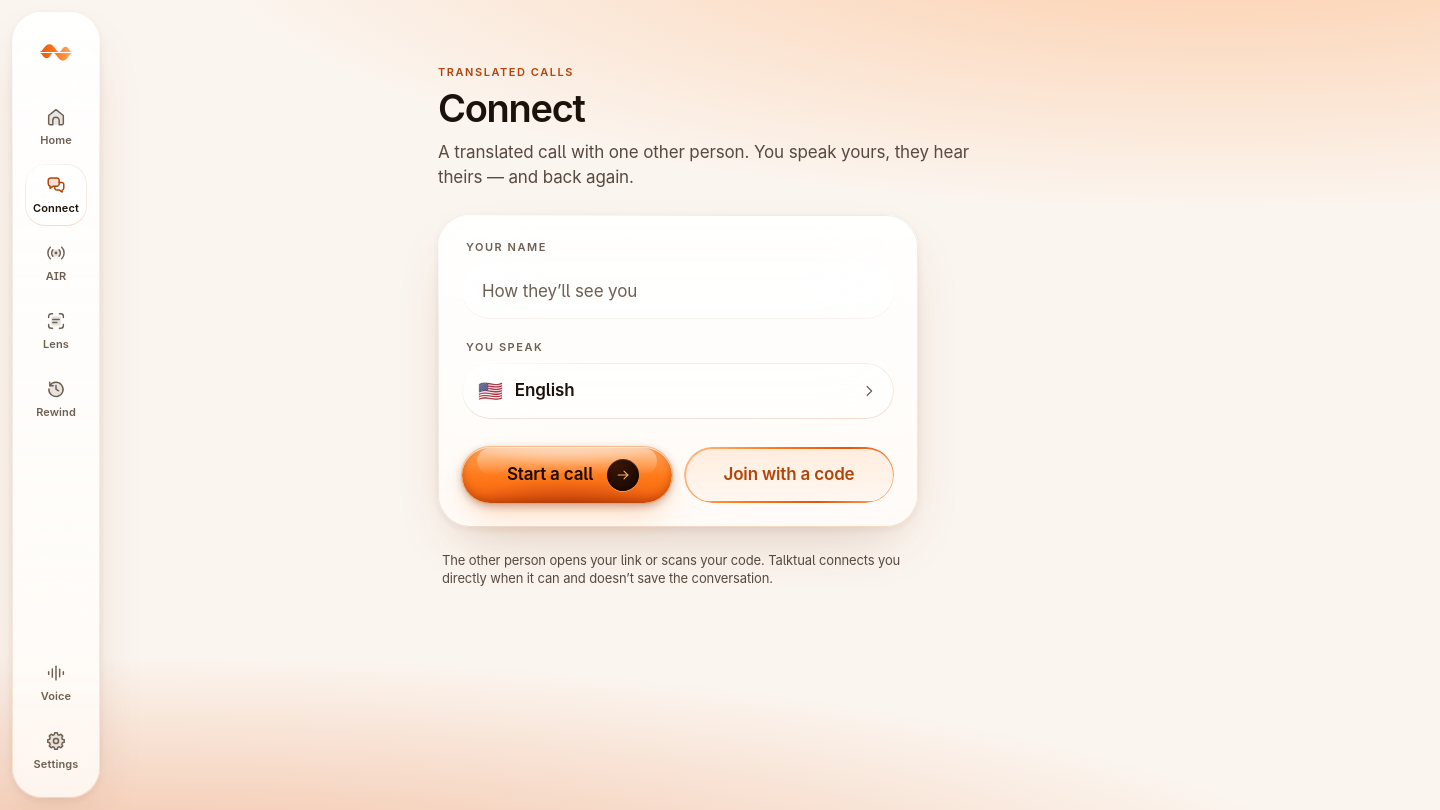
it: App entry flows › Connect: Join with a code goes to code entry; Back returns to Connect
Step 1. Type "Ana" into the field labelled "Your name" → (678, 291), box [462,263,894,319]
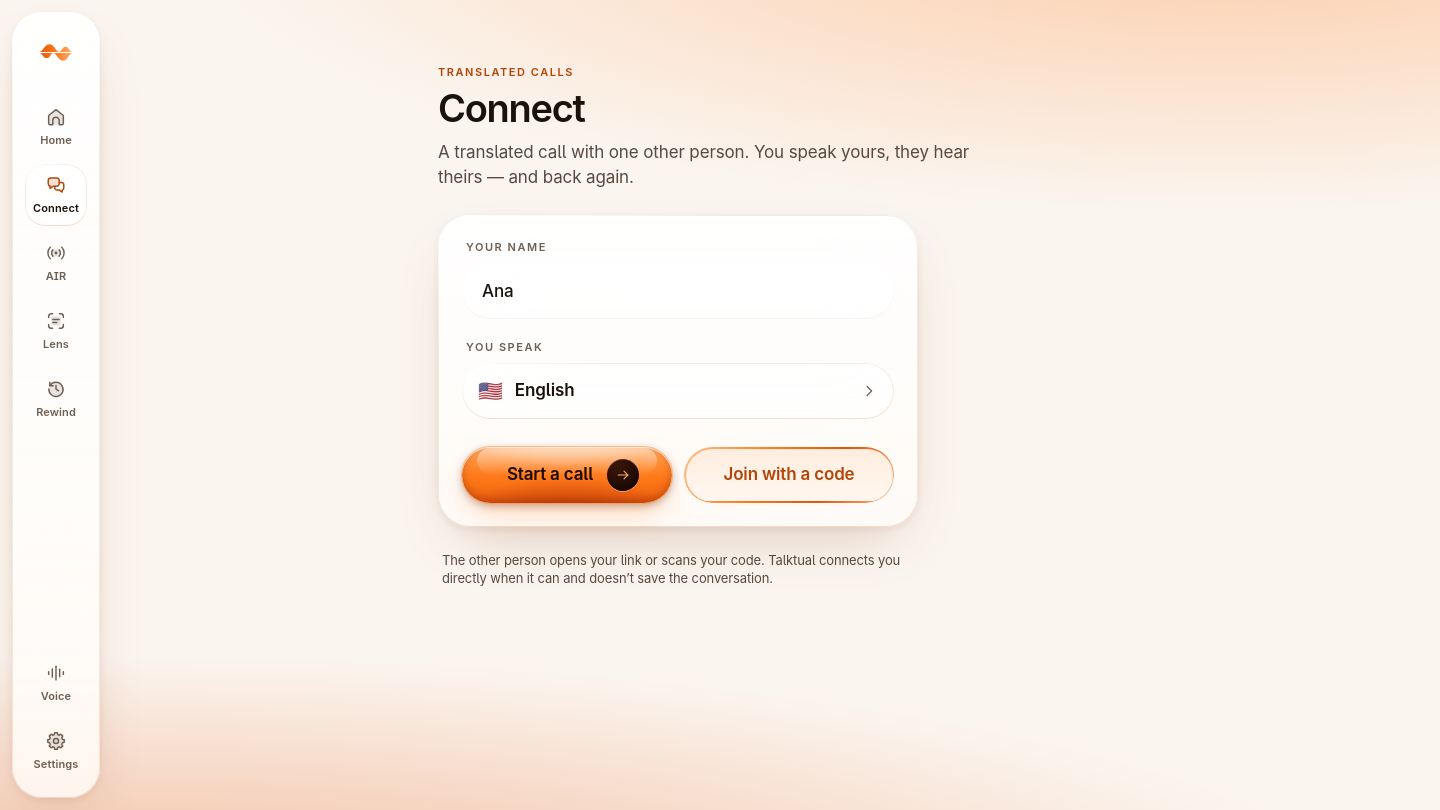
Step 2. Click the button "Join with a code" → (789, 475), box [684,447,894,503]
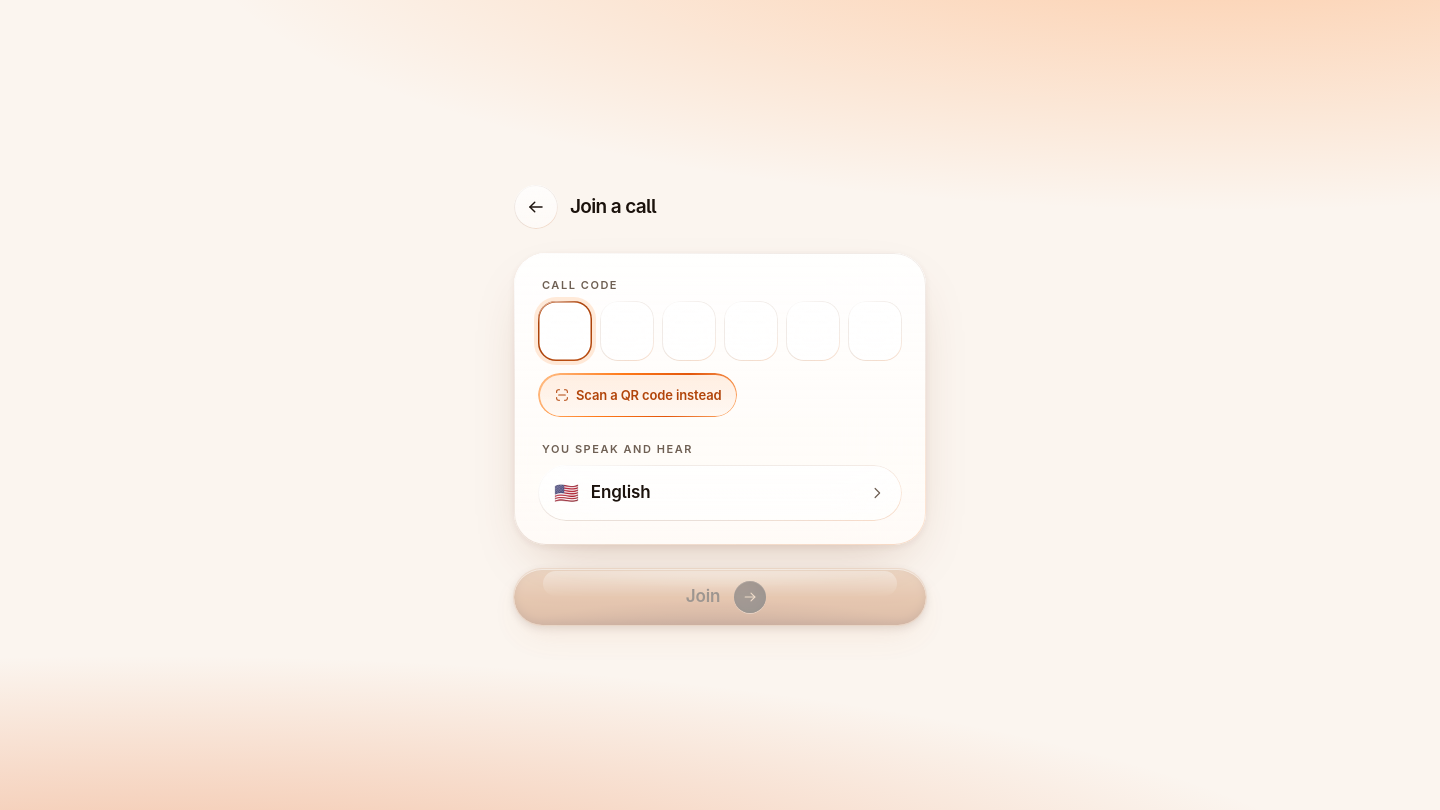
Check: the label labelled "Call code" is shown, box [542,278,618,292]
Step 3. Click the button named "Back" → (536, 207), box [514,185,558,229]
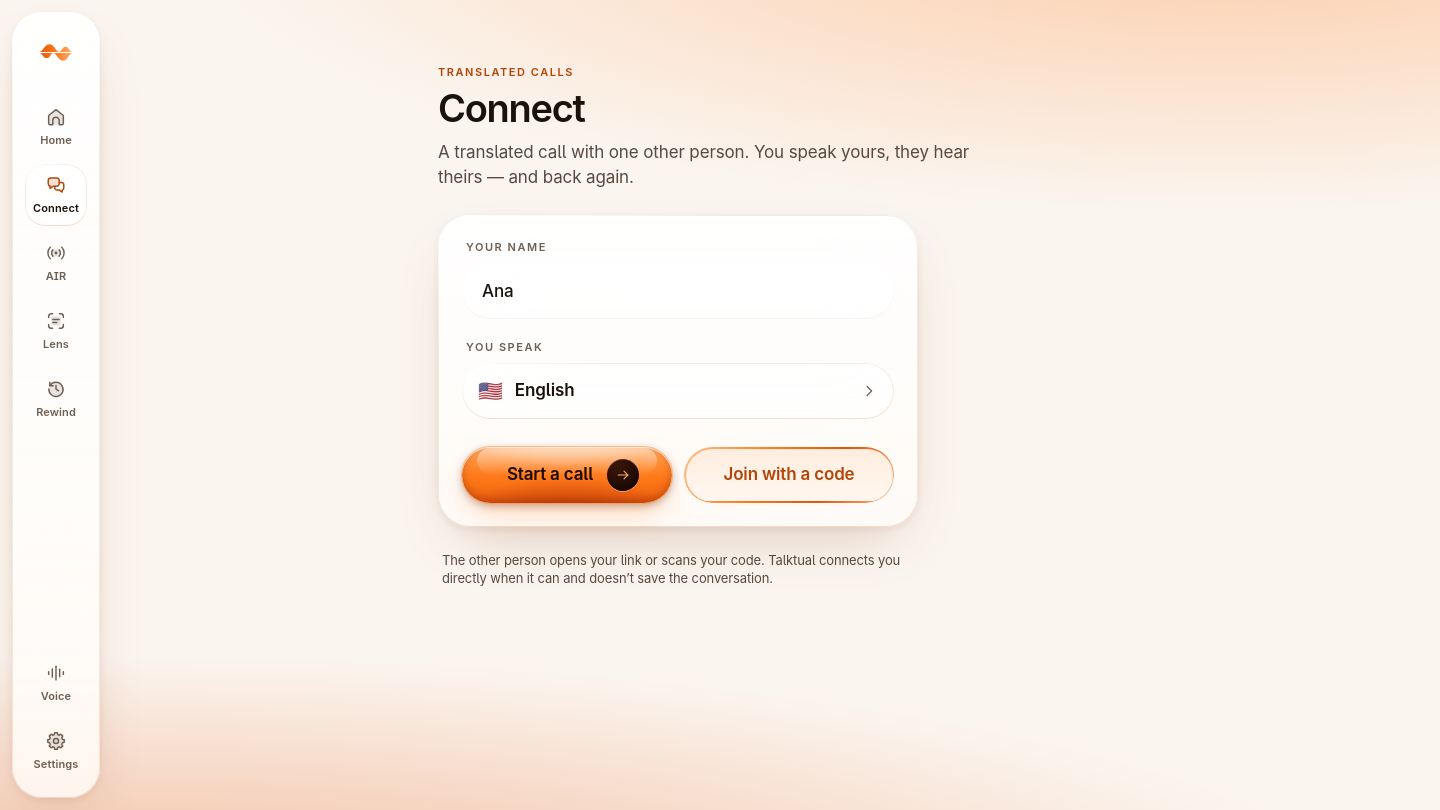
Check: the heading "Connect" is shown, box [438,85,585,131]
